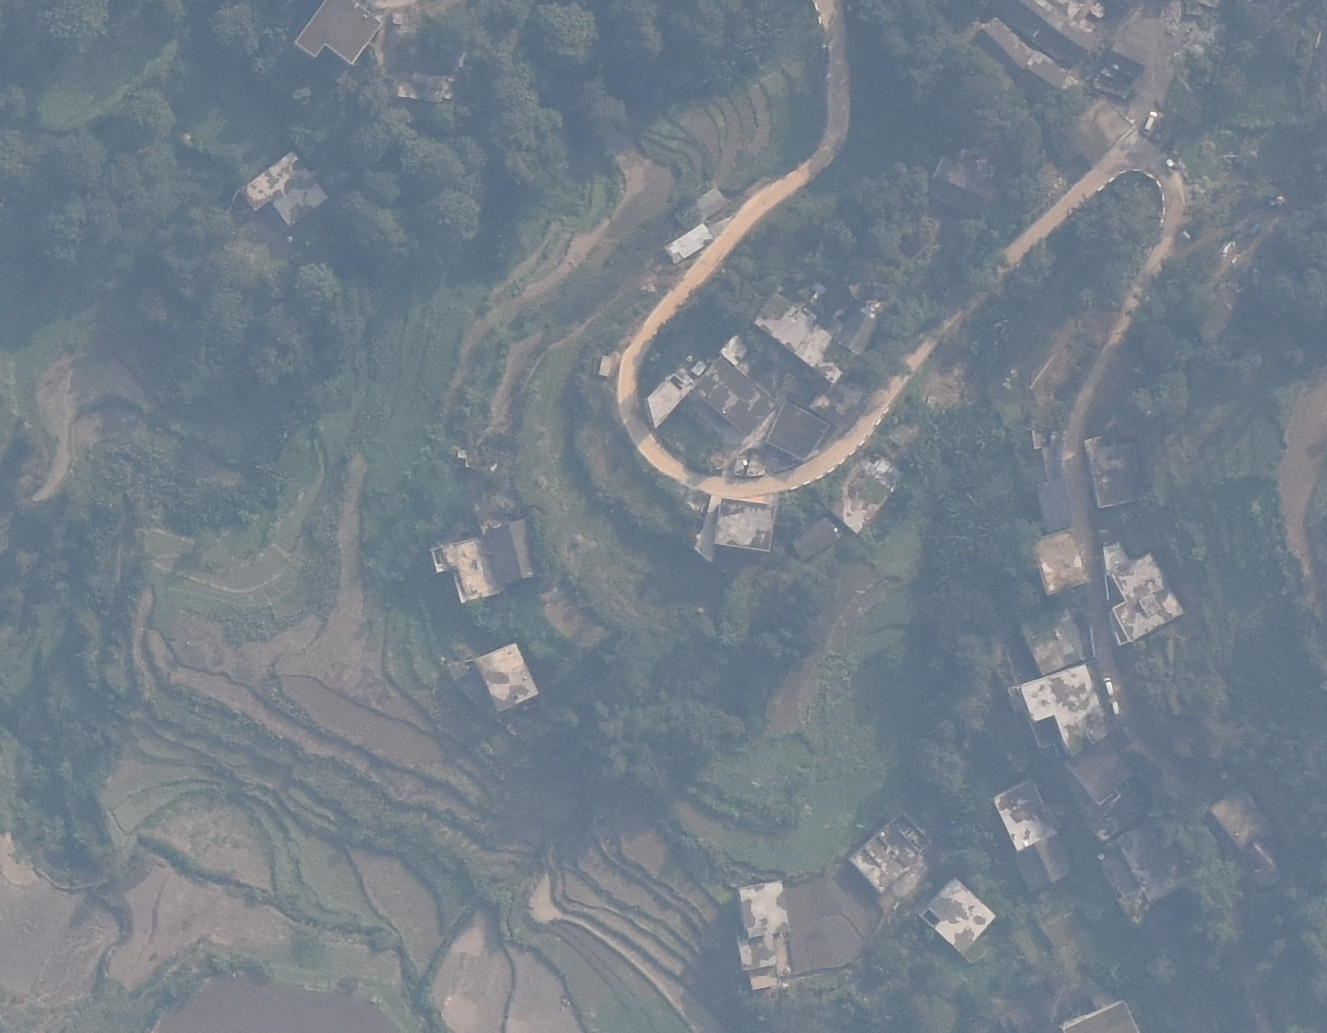building: (972, 16, 1073, 105), (844, 806, 934, 898), (1017, 666, 1109, 754), (732, 879, 799, 997), (1111, 550, 1191, 647), (238, 151, 333, 229), (692, 354, 771, 443), (288, 1, 387, 70), (992, 2, 1101, 64), (916, 878, 997, 960), (464, 639, 549, 717), (1078, 431, 1161, 508), (753, 291, 832, 367), (764, 383, 835, 466), (1014, 606, 1093, 675), (475, 519, 543, 599), (710, 490, 781, 559), (929, 149, 995, 221), (1025, 531, 1092, 600), (1204, 787, 1272, 853), (1007, 835, 1078, 896), (993, 779, 1054, 849), (645, 365, 700, 431), (1031, 481, 1091, 538), (659, 220, 716, 267), (793, 513, 840, 568), (665, 189, 733, 225), (1102, 32, 1155, 78), (839, 303, 878, 358), (591, 352, 612, 380)
vehicle: (1102, 673, 1119, 698), (1109, 700, 1121, 715)
